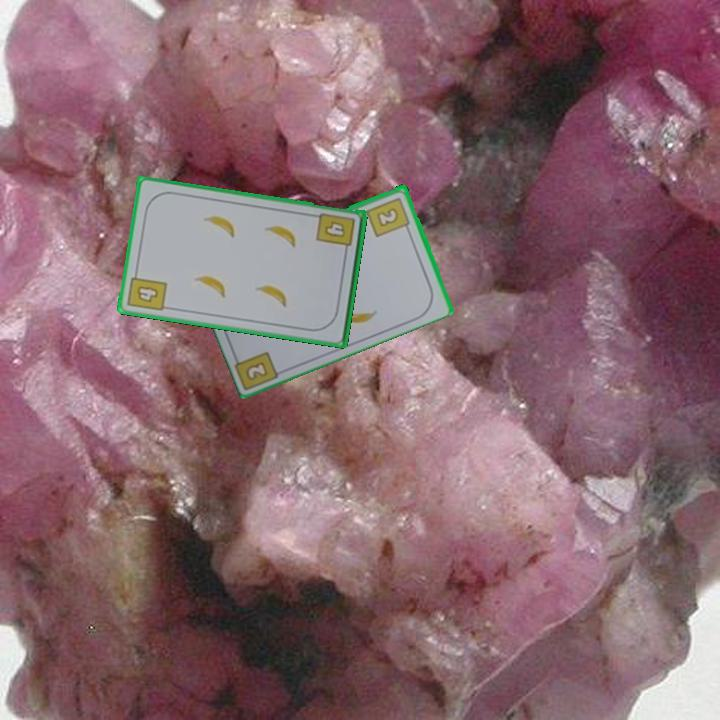2b: (363, 193, 413, 240), (244, 360, 268, 381)
4b: (124, 266, 170, 314), (313, 210, 358, 257)
